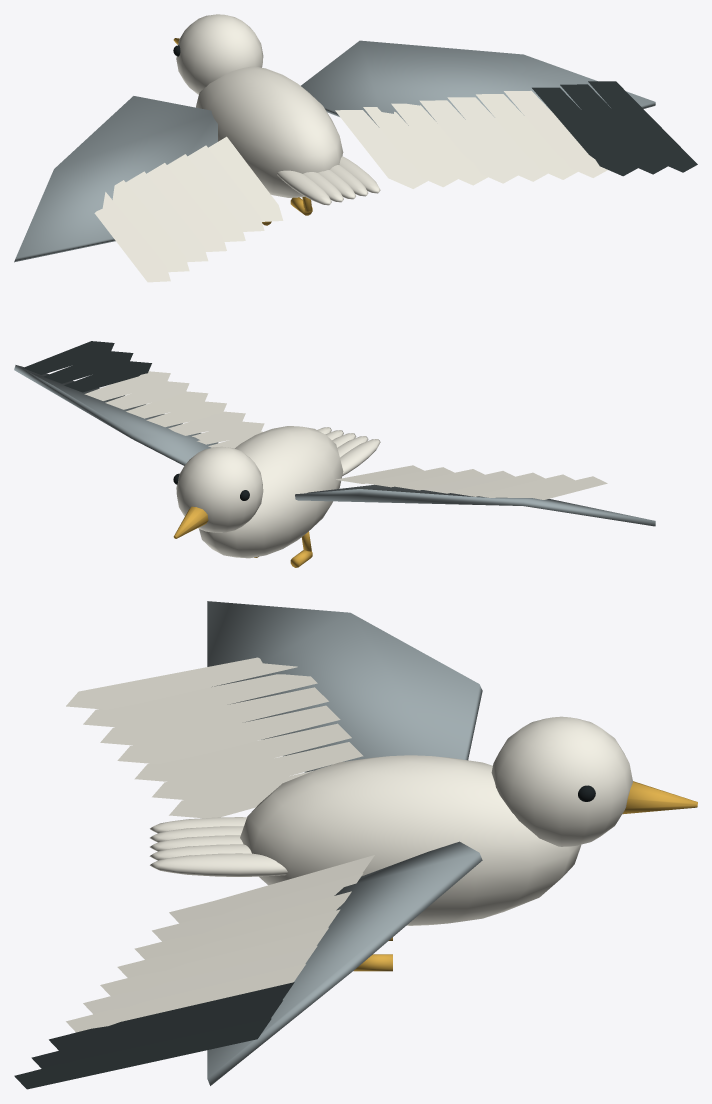
File: pacific-gull.glb
The picture shows the model from 3 angles, top to bottom: view 1: azimuth 30°, elevation 25°; view 2: azimuth 150°, elevation 25°; view 3: azimuth 270°, elevation 25°; orthographic projection. The views are drawn at different scales.
Parts seen in each view (by area): view 1: LifeRoot_Gull ivory feathers, WingR_Gull ivory feathers, WingL_Gull ivory feathers, WingL_Gull slate wing mantle, WingR_Gull slate wing mantle, WingR_Gull black flight tips; view 2: LifeRoot_Gull ivory feathers, WingR_Gull ivory feathers, WingL_Gull ivory feathers, WingR_Gull slate wing mantle, WingL_Gull slate wing mantle, WingR_Gull black flight tips, LifeRoot_Gull ochre bill and feet; view 3: LifeRoot_Gull ivory feathers, WingL_Gull ivory feathers, WingL_Gull slate wing mantle, WingR_Gull ivory feathers, WingR_Gull slate wing mantle, WingR_Gull black flight tips, LifeRoot_Gull ochre bill and feet.
Boxes of the visible parts, x1=… form: LifeRoot_Gull ivory feathers: x1=176, y1=14, x2=380, y2=205; WingR_Gull ivory feathers: x1=335, y1=90, x2=607, y2=188; WingL_Gull ivory feathers: x1=94, y1=136, x2=283, y2=282; WingL_Gull slate wing mantle: x1=14, y1=96, x2=217, y2=262; WingR_Gull slate wing mantle: x1=301, y1=40, x2=655, y2=127; WingR_Gull black flight tips: x1=532, y1=81, x2=697, y2=176; LifeRoot_Gull ivory feathers: x1=176, y1=426, x2=380, y2=558; WingR_Gull ivory feathers: x1=84, y1=371, x2=264, y2=448; WingL_Gull ivory feathers: x1=336, y1=465, x2=607, y2=499; WingR_Gull slate wing mantle: x1=14, y1=365, x2=218, y2=465; WingL_Gull slate wing mantle: x1=295, y1=484, x2=655, y2=526; WingR_Gull black flight tips: x1=23, y1=341, x2=151, y2=392; LifeRoot_Gull ochre bill and feet: x1=173, y1=506, x2=312, y2=567; LifeRoot_Gull ivory feathers: x1=149, y1=716, x2=632, y2=925; WingL_Gull ivory feathers: x1=66, y1=657, x2=363, y2=818; WingL_Gull slate wing mantle: x1=207, y1=601, x2=482, y2=772; WingR_Gull ivory feathers: x1=66, y1=855, x2=374, y2=1032; WingR_Gull slate wing mantle: x1=207, y1=841, x2=482, y2=1085; WingR_Gull black flight tips: x1=14, y1=982, x2=294, y2=1089; LifeRoot_Gull ochre bill and feet: x1=354, y1=781, x2=697, y2=971.
Bounding box in the file's own units: 1.58 × 0.359 × 0.9545.
